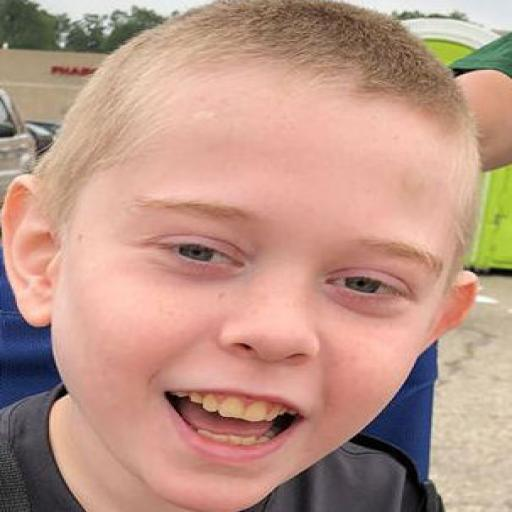Autism: (17, 7, 512, 512)
